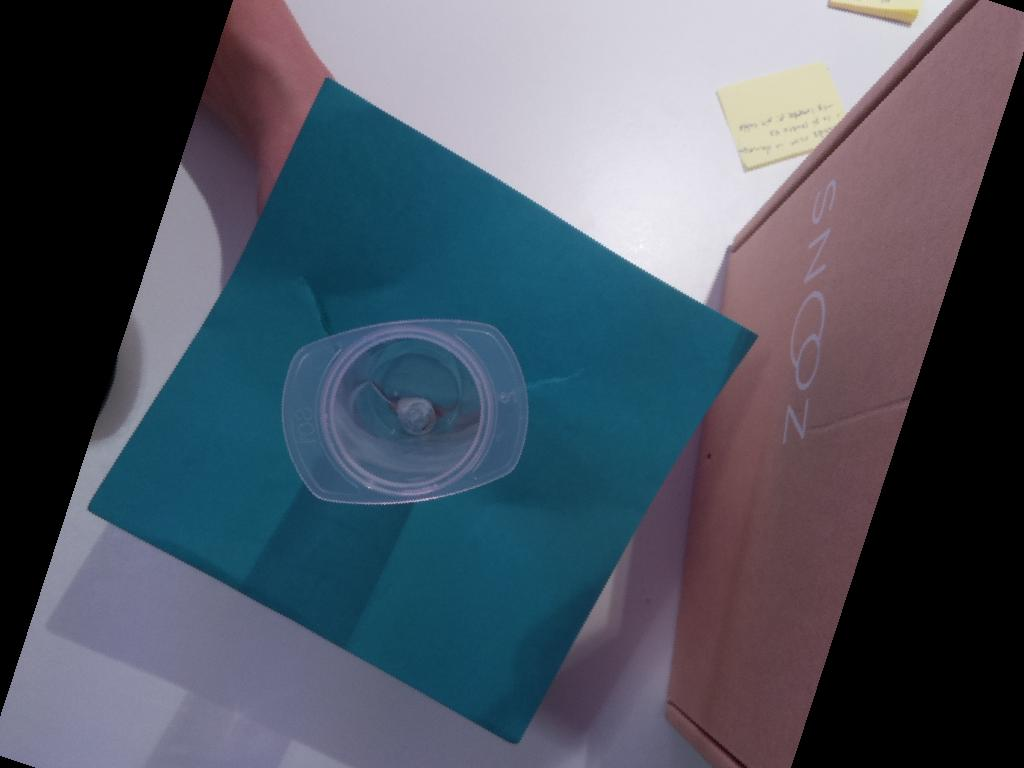clean: (264, 311, 538, 510)
